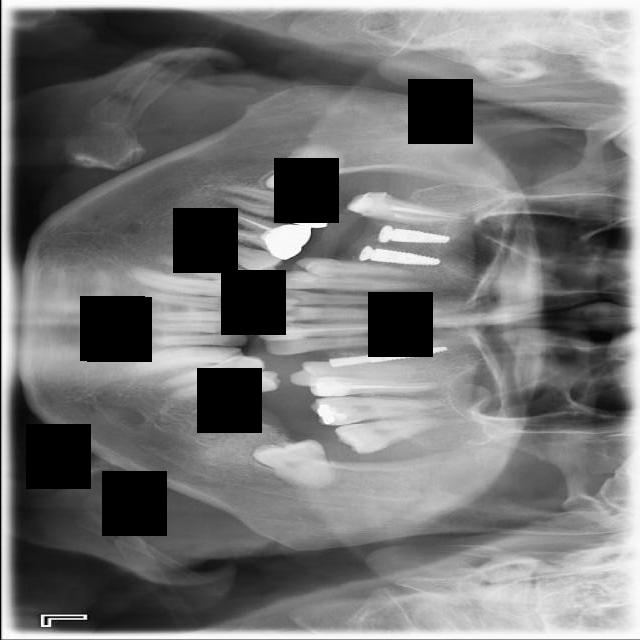52: (260, 211, 314, 267), (285, 185, 339, 236), (307, 393, 364, 429), (345, 186, 395, 223), (307, 374, 353, 398)
73: (193, 201, 279, 251), (379, 197, 471, 230), (349, 379, 440, 397), (63, 610, 88, 616)
BioHorizons Implant: (333, 416, 442, 456)
Biomet 3i Implant: (251, 437, 335, 495)
Caries: (343, 186, 470, 233)
Implant: (216, 183, 338, 231)
Keystone Dental Implant: (263, 141, 342, 198)
